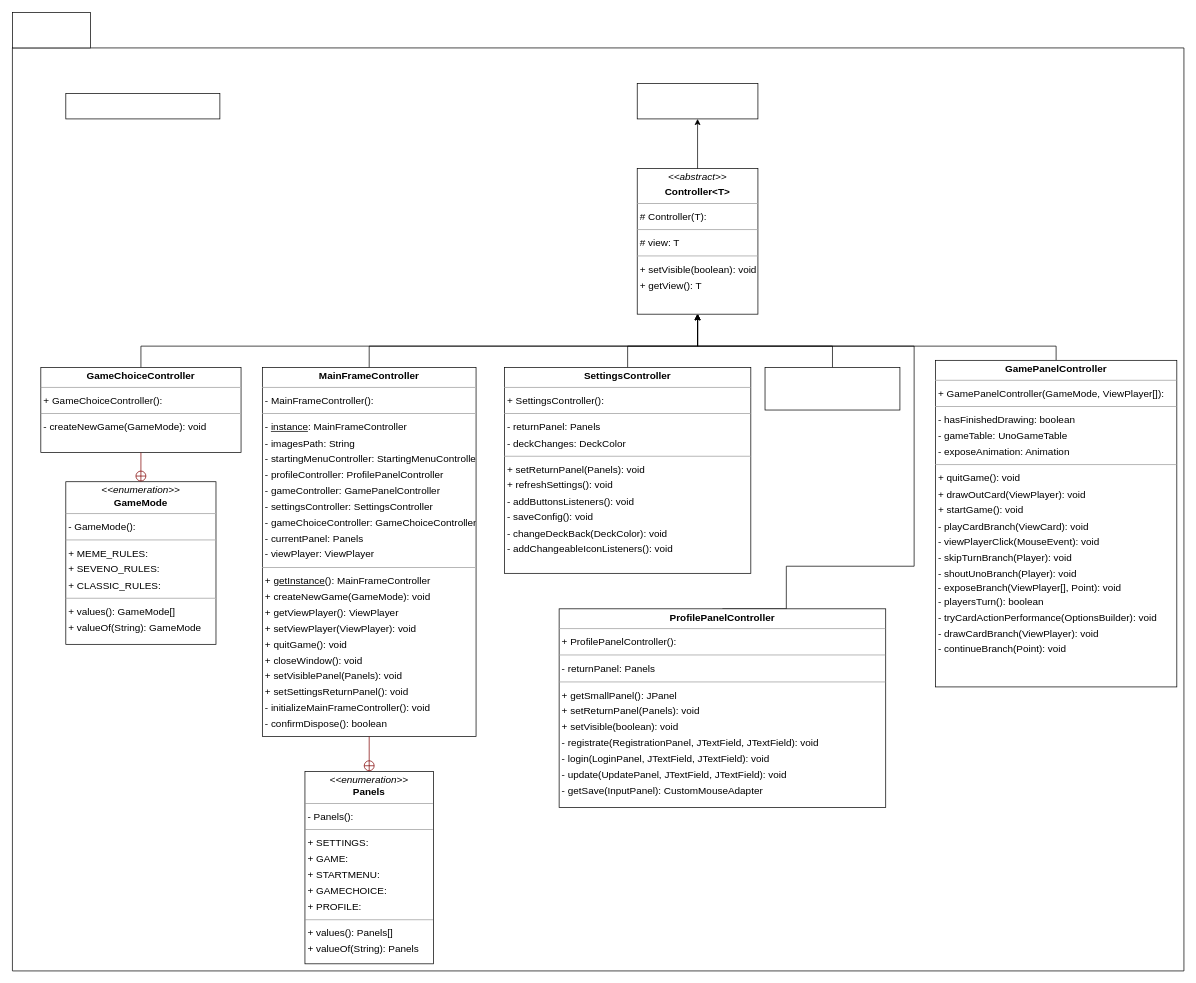
This 1196x983 diagram has some shape labels left out. Each missing label, with the box of its shape:
<<package>> package Controller.Utilities: (65, 93, 220, 119)
Container: (637, 83, 758, 119)
Controller: (12, 12, 91, 48)
StartingMenuController + StartingMenuController():: (764, 367, 900, 410)
